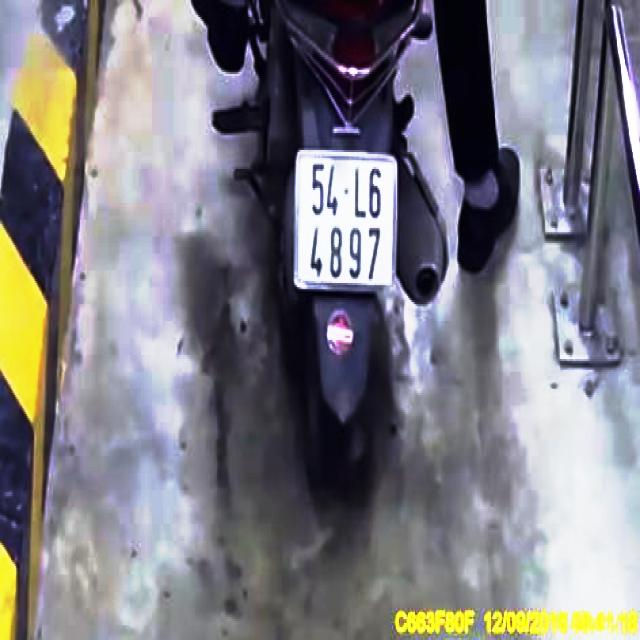license_plate: (297, 152, 400, 293)
